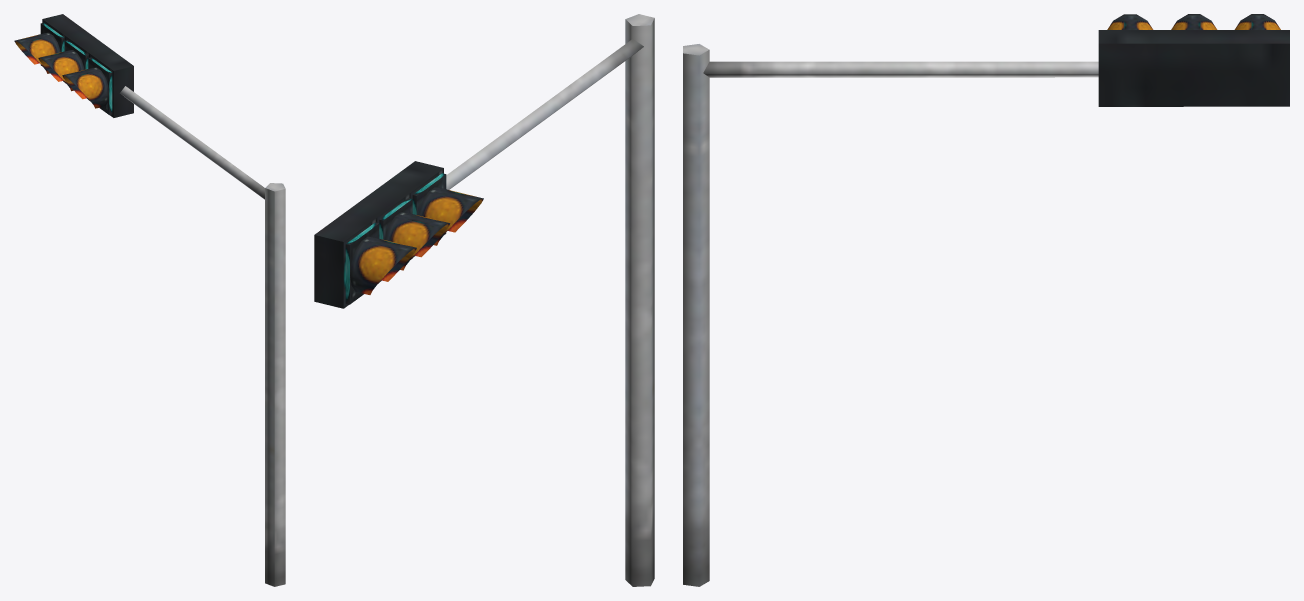
File: light.FBX
The picture shows the model from 3 angles, left to right: view 1: azimuth 30°, elevation 25°; view 2: azimuth 150°, elevation 25°; view 3: azimuth 270°, elevation 25°; orthographic projection. The views are drawn at different scales.
Visible parts, largest first — view 1: Sphere03; view 2: Sphere03; view 3: Sphere03.
Boxes of the visible parts, x1,y1,x2,y2 form: Sphere03: (14,14,285,586); Sphere03: (314,14,654,586); Sphere03: (683,14,1289,586).
Size of the model in its own units: 123 by 829 by 839.
